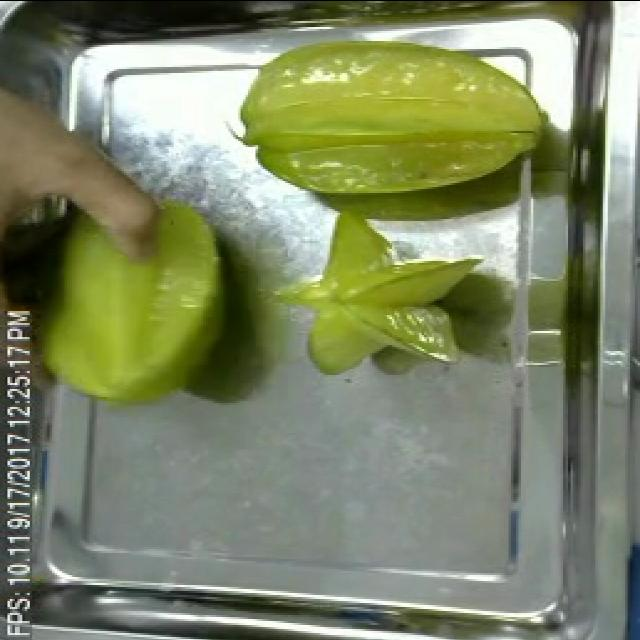fruit: (228, 28, 560, 216), (22, 186, 240, 418), (292, 206, 493, 384), (0, 54, 102, 270)
